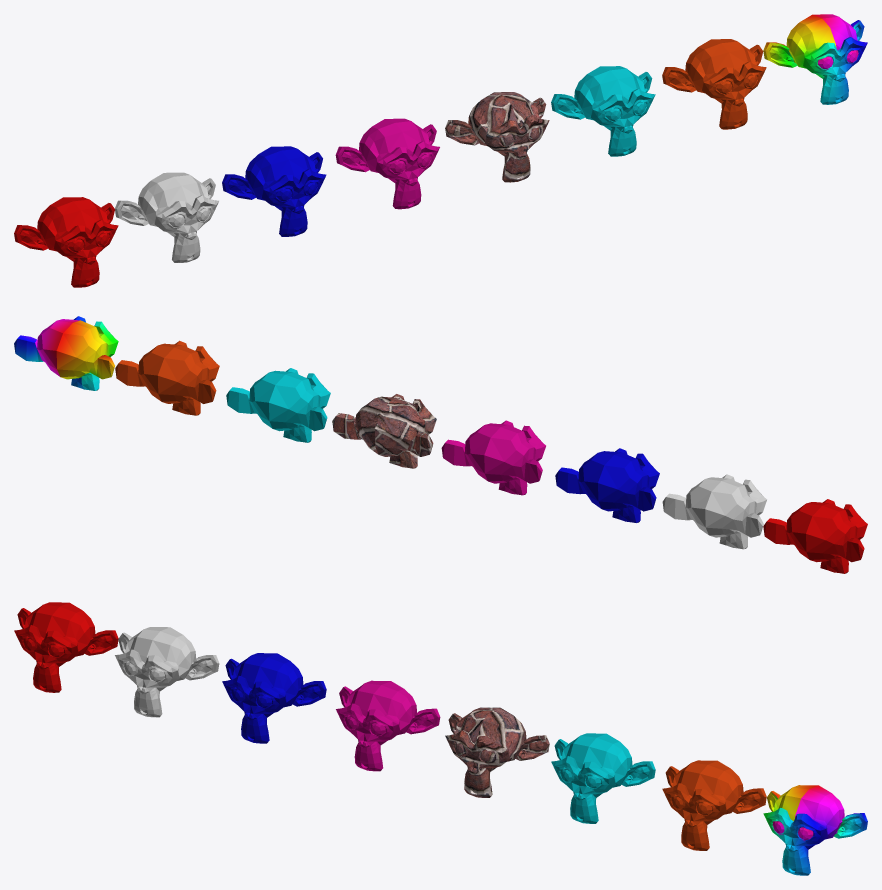
The model's file is monke rainbow.obj.
The picture shows the model from 3 angles, top to bottom: view 1: azimuth 30°, elevation 25°; view 2: azimuth 150°, elevation 25°; view 3: azimuth 330°, elevation 25°; orthographic projection.
Parts seen in each view (by area): view 1: Suzanne.002, Suzanne.001, Suzanne.003, Suzanne.005, Suzanne.007, Suzanne, Suzanne.004, Suzanne.006; view 2: Suzanne.003, Suzanne.007, Suzanne.002, Suzanne.006, Suzanne.005, Suzanne, Suzanne.004, Suzanne.001; view 3: Suzanne.006, Suzanne.004, Suzanne.007, Suzanne.001, Suzanne.005, Suzanne.003, Suzanne, Suzanne.002.
Boxes of the visible parts, x1,y1,x2,y2 form: Suzanne.002: (115,172,218,262); Suzanne.001: (14,197,118,287); Suzanne.003: (222,146,326,236); Suzanne.005: (551,66,655,156); Suzanne.007: (763,14,867,104); Suzanne: (335,118,439,209); Suzanne.004: (445,92,549,182); Suzanne.006: (662,39,766,129); Suzanne.003: (555,448,659,522); Suzanne.007: (14,316,118,390); Suzanne.002: (662,474,766,549); Suzanne.006: (115,340,219,415); Suzanne.005: (226,368,330,442); Suzanne: (441,420,545,495); Suzanne.004: (332,394,436,468); Suzanne.001: (763,499,867,573); Suzanne.006: (662,760,766,850); Suzanne.004: (445,707,549,797); Suzanne.007: (763,785,867,875); Suzanne.001: (14,602,118,692); Suzanne.005: (551,733,655,823); Suzanne.003: (222,653,326,743); Suzanne: (336,680,440,771); Suzanne.002: (115,627,219,717).
Size of the model in its own units: 23.19 by 1.97 by 1.7.
8 materials, 2 textured.
